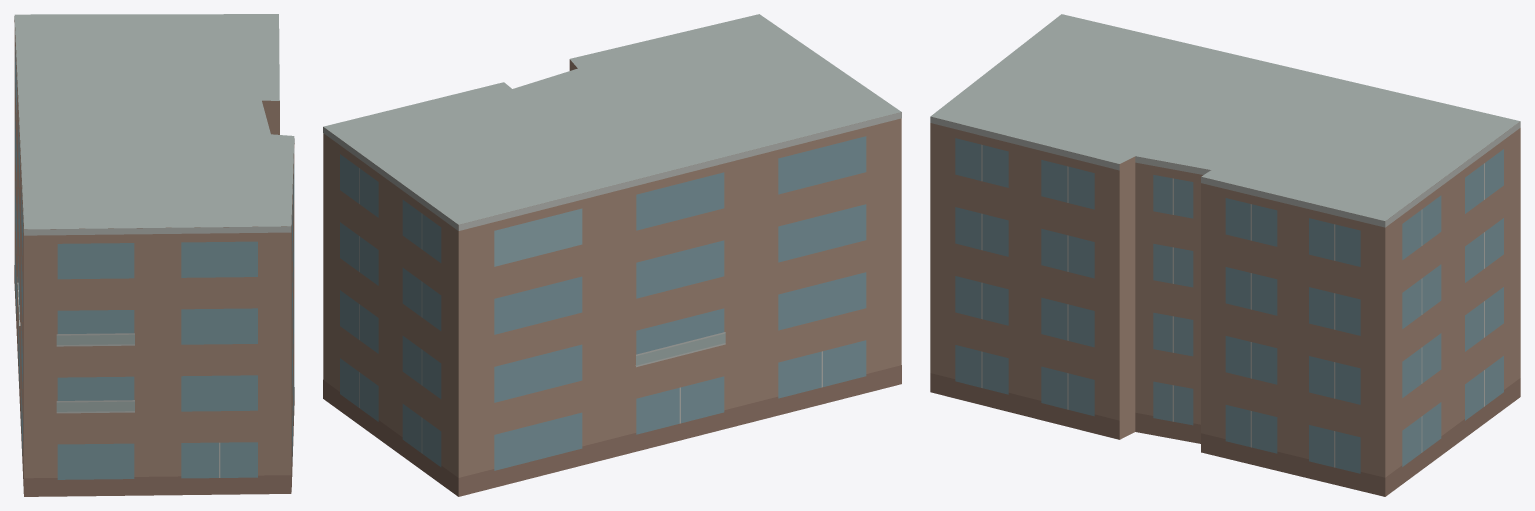
The model's file is survey-upis-32757003.glb.
3 renders of one model, left to right at view 1: azimuth 30°, elevation 25°; view 2: azimuth 150°, elevation 25°; view 3: azimuth 270°, elevation 25°, orthographic. The views are drawn at different scales.
Visible parts, largest first — view 1: survey-upis-32757003.tmp; view 2: survey-upis-32757003.tmp; view 3: survey-upis-32757003.tmp.
Part boxes in pixels (left/top/right/bottom): survey-upis-32757003.tmp: left=14, top=14, right=294, bottom=496; survey-upis-32757003.tmp: left=323, top=14, right=901, bottom=496; survey-upis-32757003.tmp: left=930, top=14, right=1520, bottom=496.
Size of the model in its own units: 16.93 by 10.5 by 20.38.
